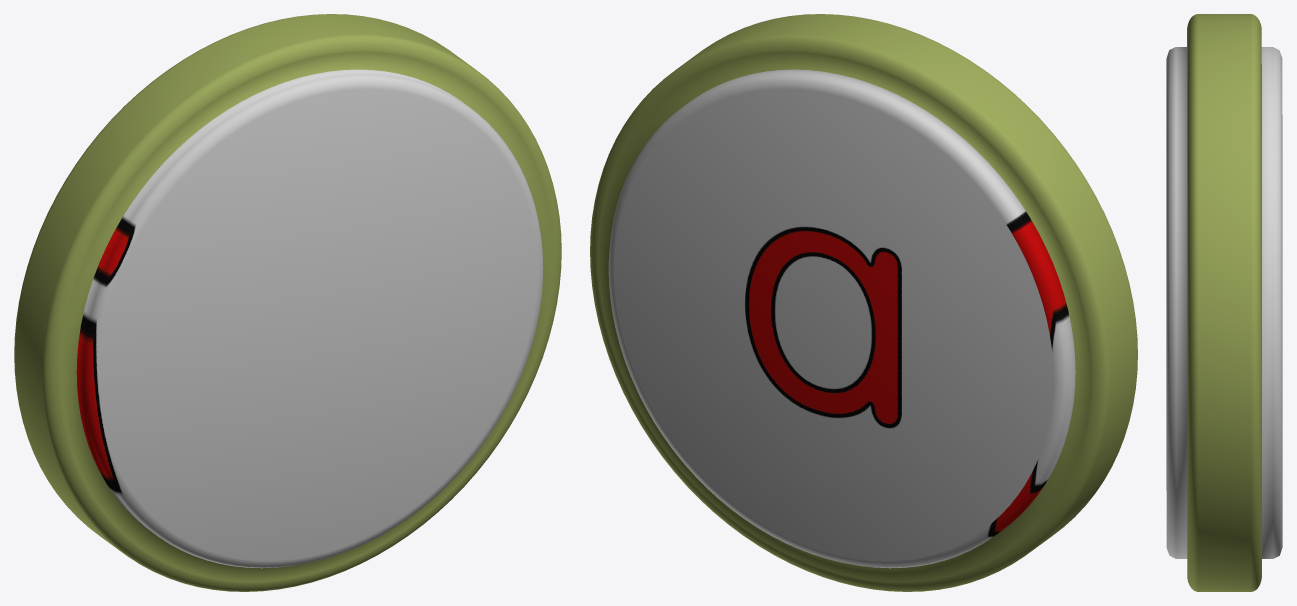
File: apple8.gltf
The picture shows the model from 3 angles, left to right: view 1: azimuth 30°, elevation 25°; view 2: azimuth 150°, elevation 25°; view 3: azimuth 270°, elevation 25°; orthographic projection. The views are drawn at different scales.
Parts seen in each view (by area): view 1: Cylinder.001; view 2: Cylinder.001; view 3: Cylinder.001.
Boxes of the visible parts, x1,y1,x2,y2 form: Cylinder.001: [14, 14, 561, 591]; Cylinder.001: [590, 14, 1137, 591]; Cylinder.001: [1166, 14, 1282, 591].
Size of what is drawn, in the model's own units: 2.56 by 2.56 by 0.5145.
Materials: 2 (1 with a texture image).
